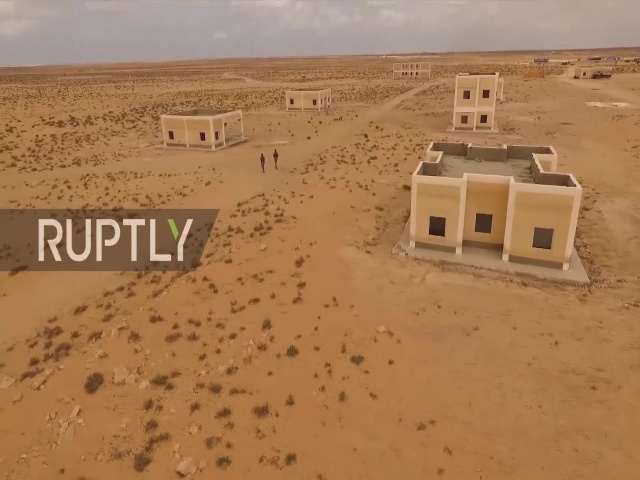person: (257, 150, 266, 176), (271, 148, 280, 173)
